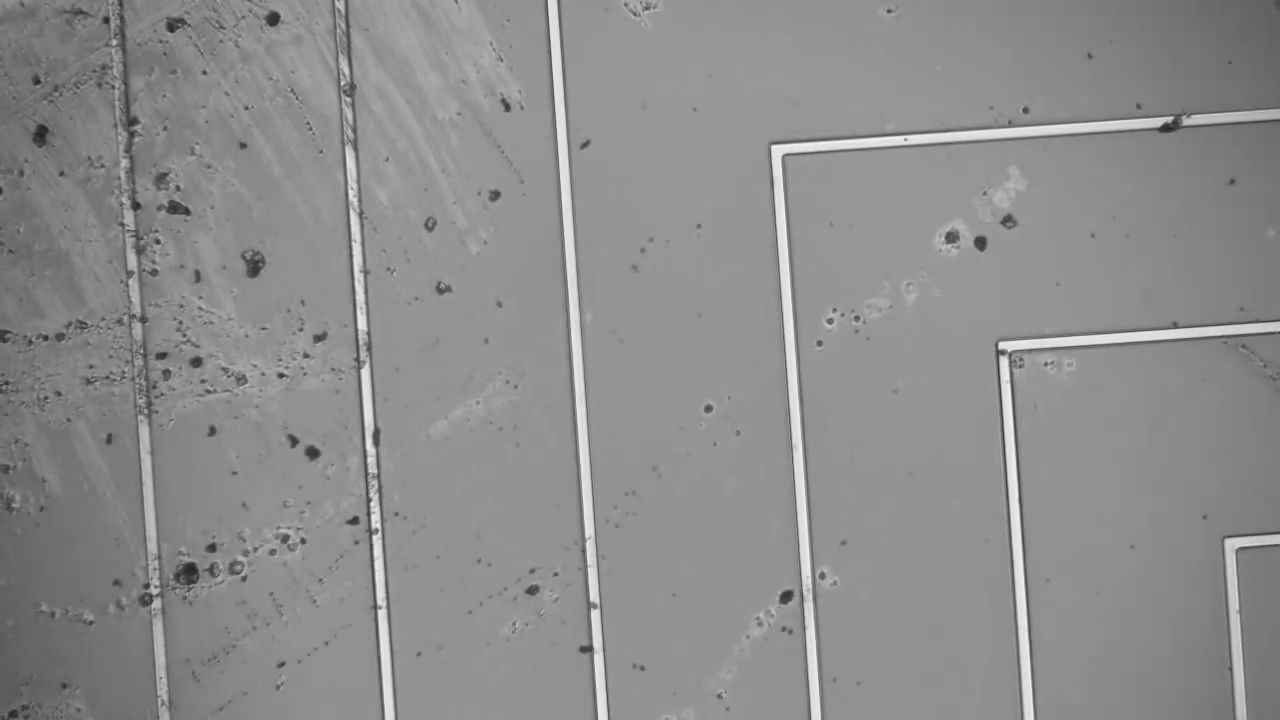stains_enbedded: (1158, 109, 1188, 140), (362, 417, 391, 447), (133, 588, 172, 610)
